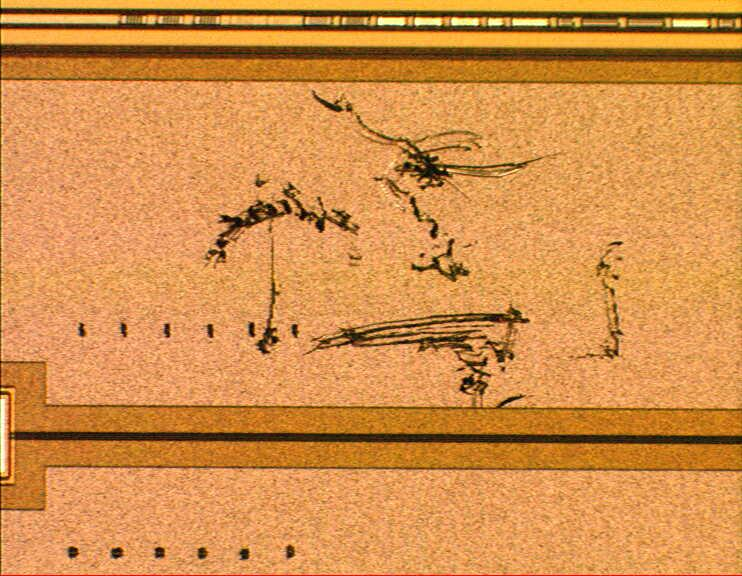SCRATCH: (196, 72, 635, 428)
